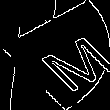M_NW: (8, 21, 102, 89)
